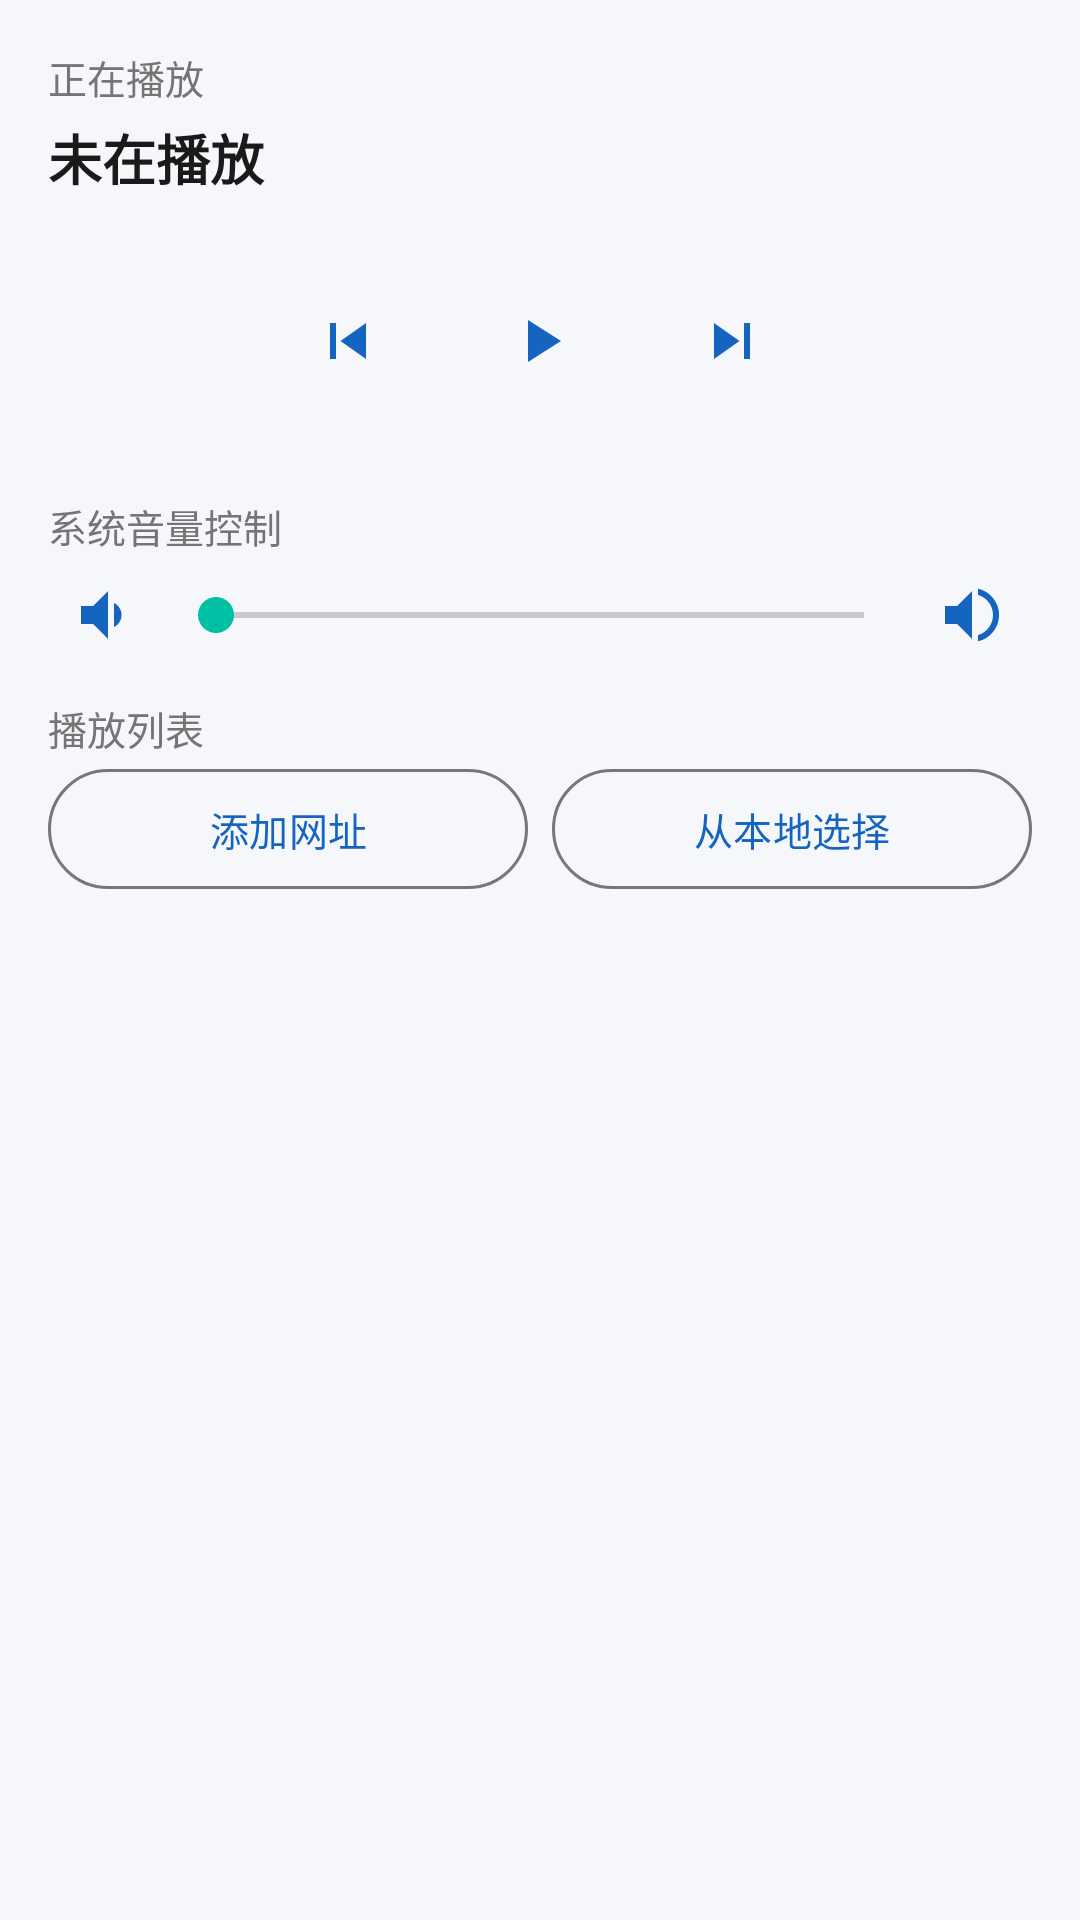

Icons on this 1080x1920 Android screen, each with its box as (x1, y1, x2, y2):
上一首: (330, 323, 366, 359)
下一首: (714, 323, 750, 359)
播放/暂停: (528, 320, 561, 362)
音量减: (81, 591, 122, 639)
音量加: (945, 588, 999, 642)
